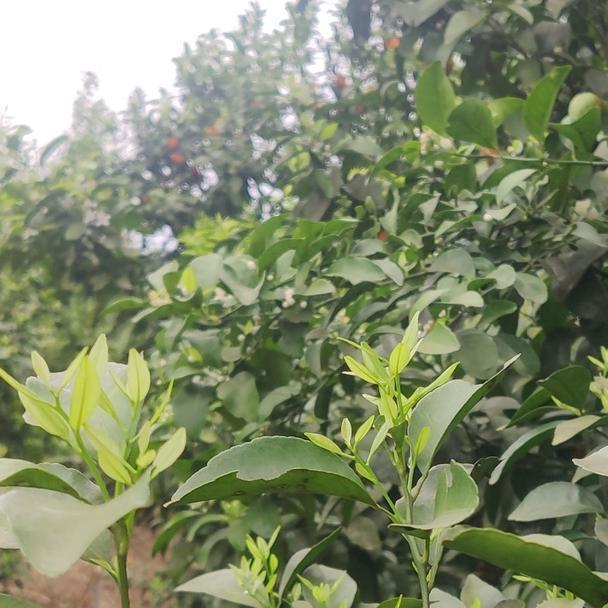shoot: (7, 349, 111, 491), (336, 328, 456, 431), (99, 359, 177, 476), (312, 410, 392, 510)
